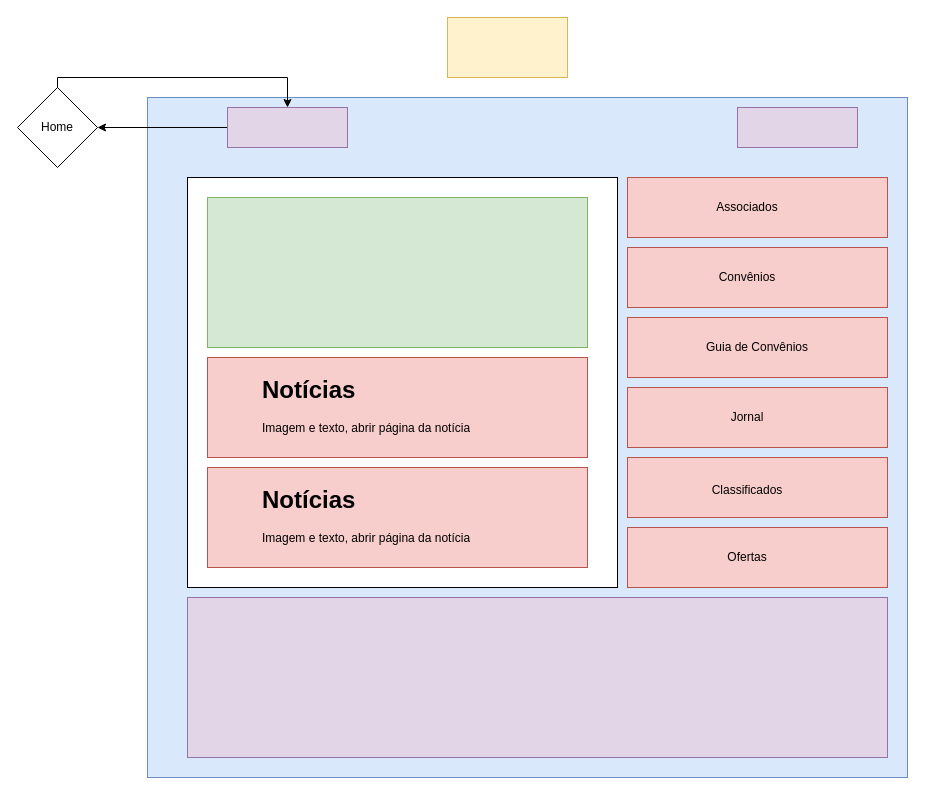
Image size: 925x795. Some labels were removed from this diagram. Each missing label, with the box of its shape:
Banner Rotativo Notícias Divulgações: (206, 196, 588, 348)
Home Page: (446, 16, 568, 78)
Logo ASU: (226, 106, 348, 148)
Rodapé da Página <footer> <small></small> <address></address> </footer>: (186, 596, 888, 758)
Você OnLine: (736, 106, 858, 148)
